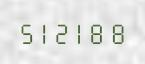eight: (90, 20, 107, 44), (108, 20, 125, 44)
five: (17, 20, 34, 44)
one: (35, 20, 52, 44), (72, 20, 89, 44)
two: (54, 20, 71, 44)
